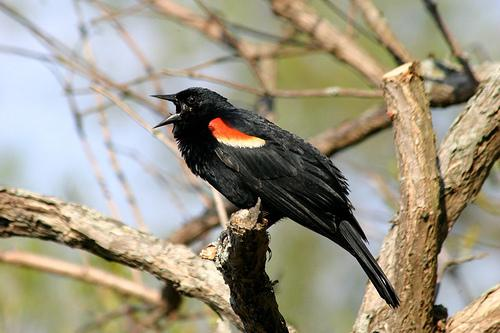010.Red_winged_Blackbird: (146, 86, 400, 313)
